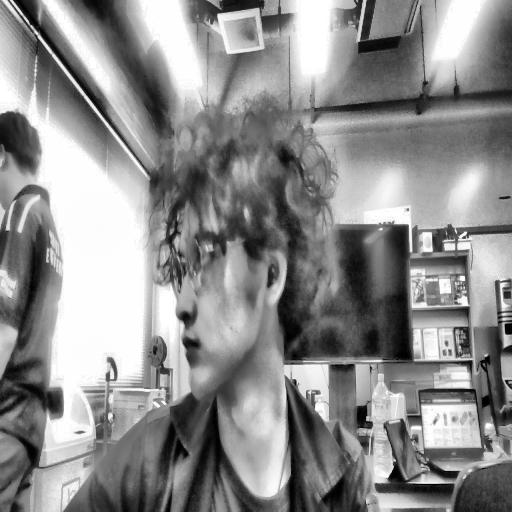Daifuku: (150, 102, 340, 388)
Not Daifuku: (0, 116, 40, 198)
